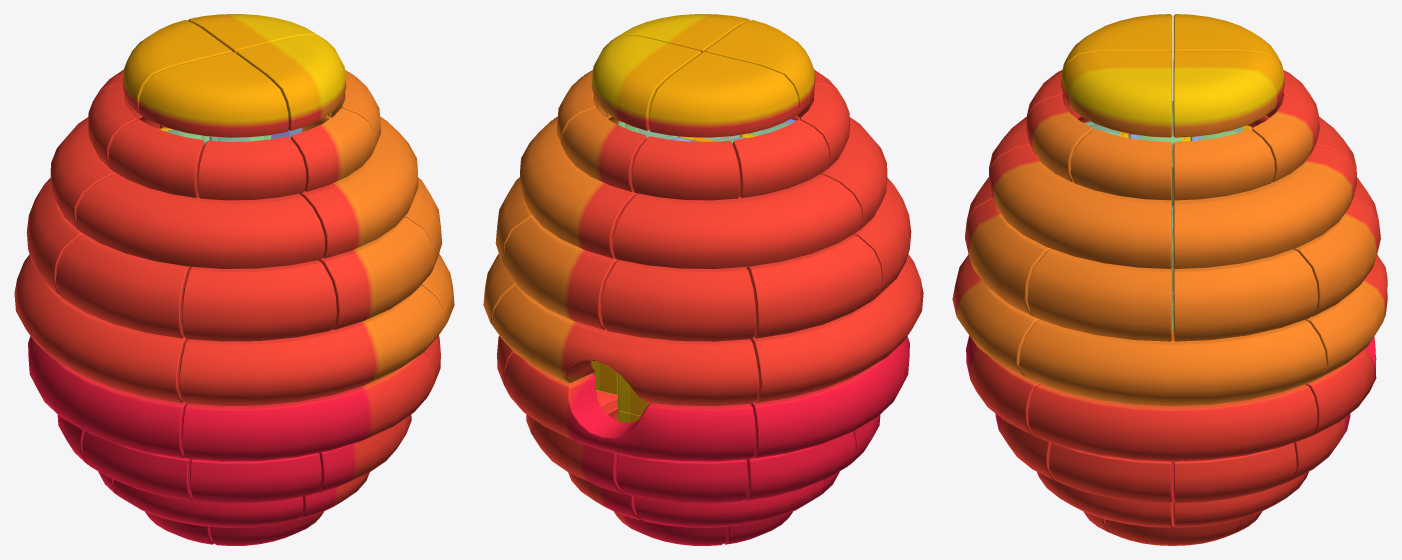
File: level_157.fbx
The picture shows the model from 3 angles, left to right: view 1: azimuth 30°, elevation 25°; view 2: azimuth 150°, elevation 25°; view 3: azimuth 270°, elevation 25°; orthographic projection.
Parts seen in each view (by area): view 1: Cube_L1_10.001, Cube_L1_18.001, Cube_L2_10, Cube_L1_9.001, Cube_L1_7.001, Cube_L1_26, Cube_L1_2.001, Cube_L2_11, Cube_L1_15.001, Cube_L1_6.001, Cube_L1_23, Cube_L1_27 (+18 smaller); view 2: Cube_L1_17.001, Cube_L1_11.001, Cube_L2_13, Cube_L1_9.001, Cube_L1_3.001, Cube_L1_24, Cube_L1_4.001, Cube_L2_11, Cube_L1_14.001, Cube_L1.001, Cube_L1_20, Cube_L1_25 (+20 smaller); view 3: Cube_L1_8.001, Cube_L2_12, Cube_L1_14.001, Cube_L1_15.001, Cube_L1_1, Cube_L1_5.001, Cube_L1_27, Cube_L1_25, Cube_L1_16.001, Cube_L1_12.001, Cube_L1.001, Cube_L1_6.001 (+19 smaller).
Boxes of the visible parts, <box> form: Cube_L1_10.001: <box>178,285,446,406</box>; Cube_L1_18.001: <box>76,174,324,269</box>; Cube_L2_10: <box>182,352,433,461</box>; Cube_L1_9.001: <box>14,254,187,403</box>; Cube_L1_7.001: <box>181,260,336,341</box>; Cube_L1_26: <box>138,52,288,137</box>; Cube_L1_2.001: <box>55,234,191,338</box>; Cube_L2_11: <box>28,336,187,458</box>; Cube_L1_15.001: <box>299,118,418,258</box>; Cube_L1_6.001: <box>318,217,434,329</box>; Cube_L1_23: <box>197,136,306,200</box>; Cube_L1_27: <box>236,35,346,130</box>; Cube_L1_17.001: <box>612,174,861,269</box>; Cube_L1_11.001: <box>491,285,759,406</box>; Cube_L2_13: <box>504,352,755,461</box>; Cube_L1_9.001: <box>750,254,923,402</box>; Cube_L1_3.001: <box>601,260,756,341</box>; Cube_L1_24: <box>648,52,799,137</box>; Cube_L1_4.001: <box>746,234,882,338</box>; Cube_L2_11: <box>751,336,909,458</box>; Cube_L1_14.001: <box>519,118,638,258</box>; Cube_L1.001: <box>503,217,618,329</box>; Cube_L1_20: <box>631,136,740,200</box>; Cube_L1_25: <box>591,34,701,130</box>; Cube_L1_8.001: <box>1019,320,1326,406</box>; Cube_L2_12: <box>1028,384,1317,461</box>; Cube_L1_14.001: <box>1173,145,1356,269</box>; Cube_L1_15.001: <box>989,145,1172,269</box>; Cube_L1_1: <box>1027,249,1172,341</box>; Cube_L1_5.001: <box>1173,249,1318,341</box>; Cube_L1_27: <box>1061,51,1172,137</box>; Cube_L1_25: <box>1173,51,1284,137</box>; Cube_L1_16.001: <box>1070,129,1172,200</box>; Cube_L1_12.001: <box>1173,129,1274,200</box>; Cube_L1.001: <box>1293,199,1380,316</box>; Cube_L1_6.001: <box>965,199,1051,316</box>.
Size of the model in its own units: 10.53 by 12.28 by 10.39.
